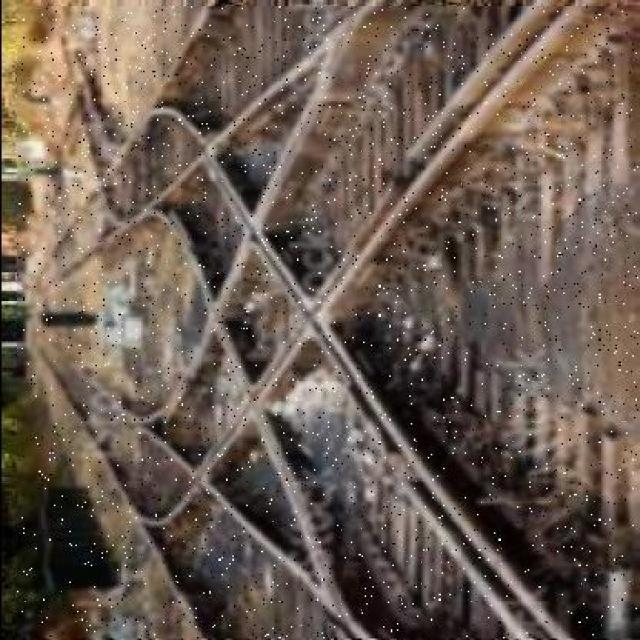rail: (16, 7, 637, 638)
